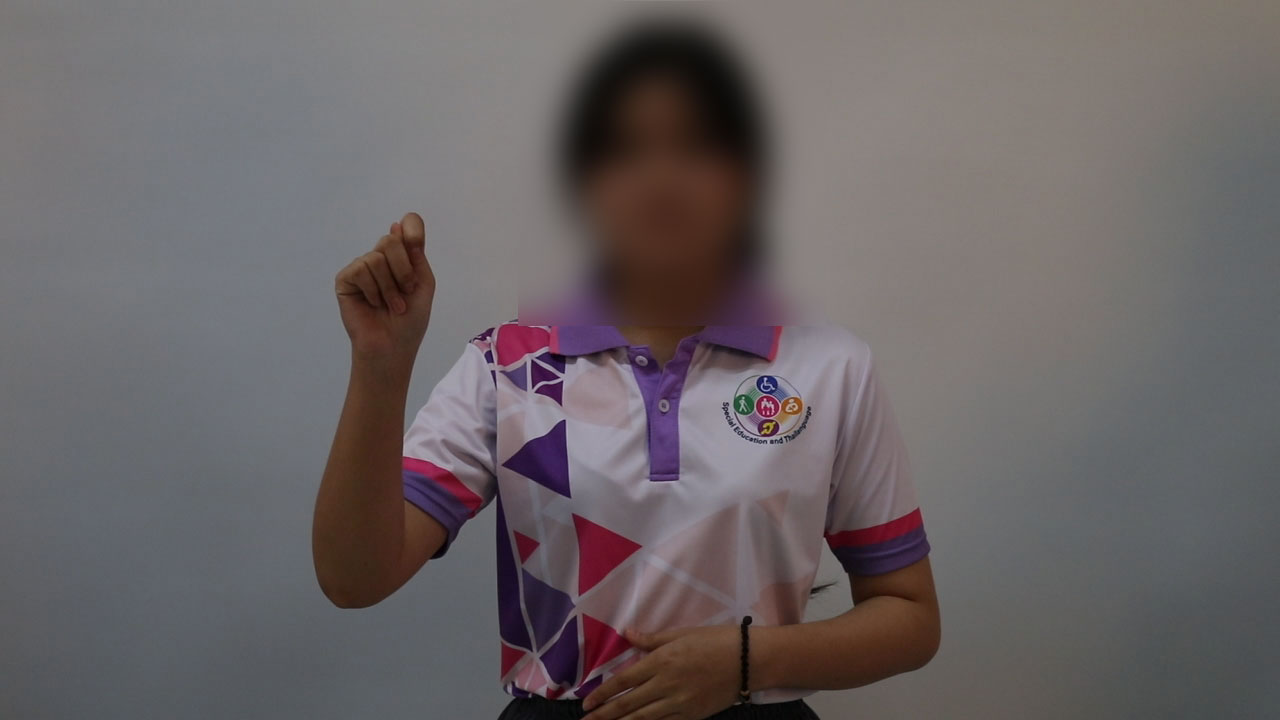tor: (306, 199, 480, 391)
